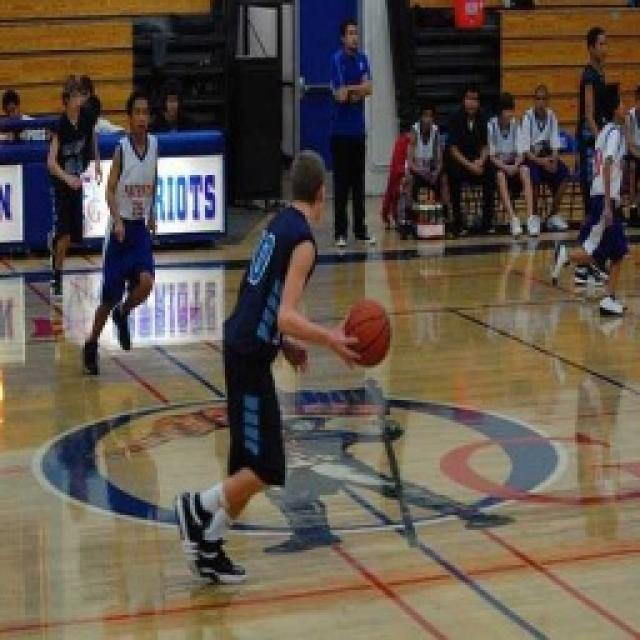rim: (339, 295, 398, 373)
